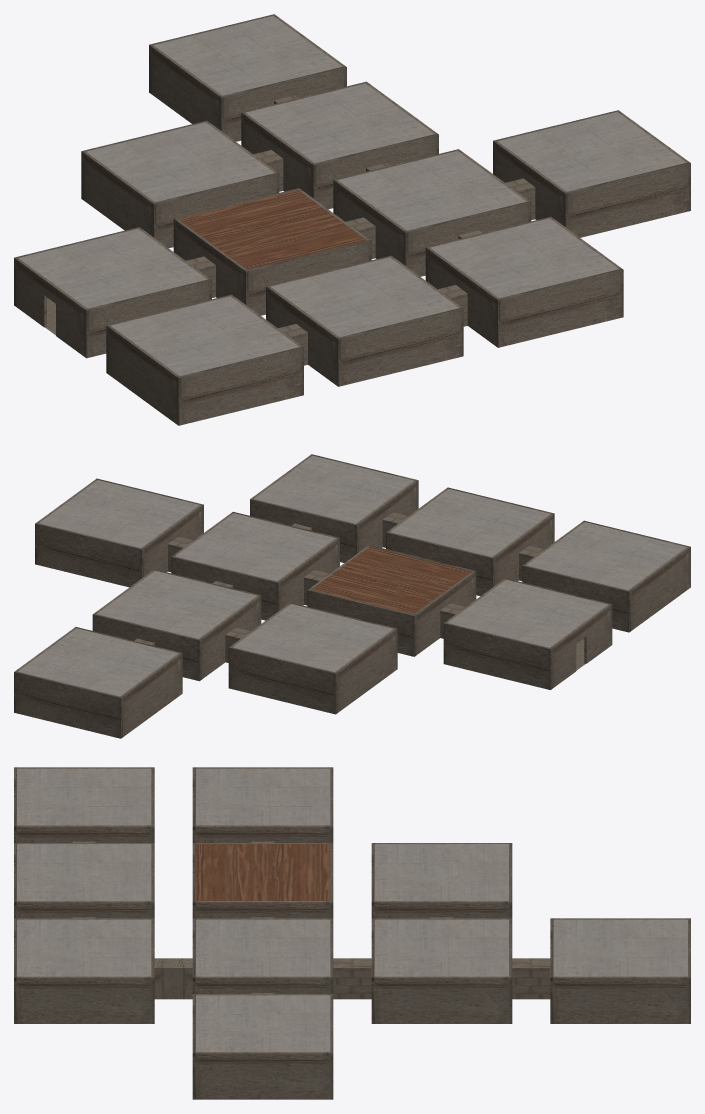
The model's file is roof.obj.
3 views of the same model, one above another, from view 1: azimuth 30°, elevation 25°; view 2: azimuth 150°, elevation 25°; view 3: azimuth 270°, elevation 25° (orthographic). The views are drawn at different scales.
Visible parts, largest first — view 1: Labyrinth_Cube.011; view 2: Labyrinth_Cube.011; view 3: Labyrinth_Cube.011.
Boxes of the visible parts, x1,y1,x2,y2 form: Labyrinth_Cube.011: (14, 14, 690, 425); Labyrinth_Cube.011: (14, 454, 690, 738); Labyrinth_Cube.011: (14, 767, 690, 1099).
Size of the model in its own units: 26.5 by 2.01 by 26.5.
Materials: 6 (6 with a texture image).
